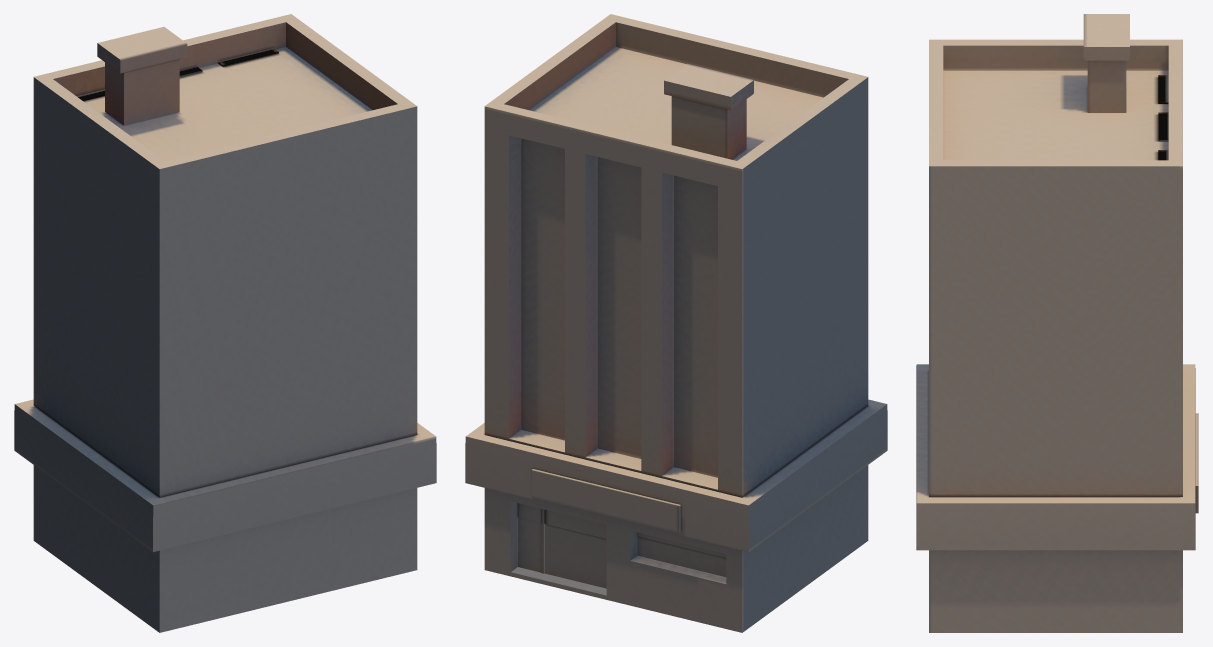
The model's file is building1.gltf.
3 renders of one model, left to right at view 1: azimuth 30°, elevation 25°; view 2: azimuth 150°, elevation 25°; view 3: azimuth 270°, elevation 25°, orthographic.
Visible parts, largest first — view 1: building1_1; view 2: building1_1; view 3: building1_1.
Part boxes in pixels (<box>): building1_1: <box>14,14,436,632</box>; building1_1: <box>465,14,887,632</box>; building1_1: <box>916,14,1198,632</box>.
Bounding box in the file's own units: 2.6 × 4.44 × 2.23.
Materials: 1 (1 with a texture image).
